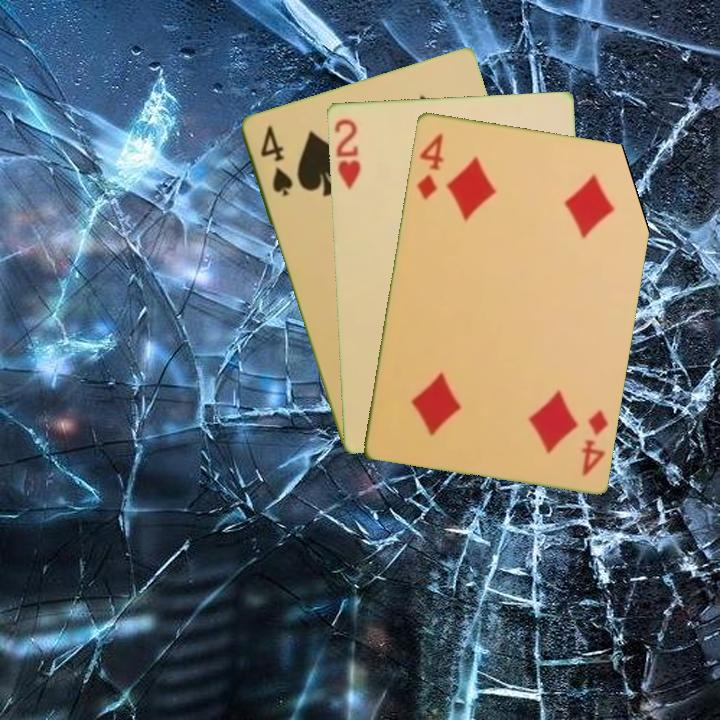2h: (331, 115, 363, 192)
4d: (413, 129, 447, 202), (577, 406, 611, 479)
4s: (256, 122, 295, 199)
